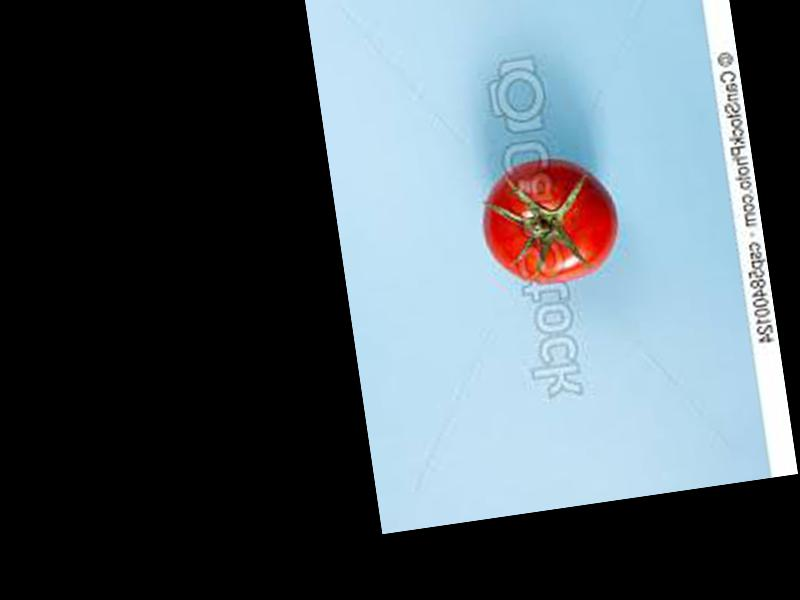Tomato: (476, 152, 627, 290)
